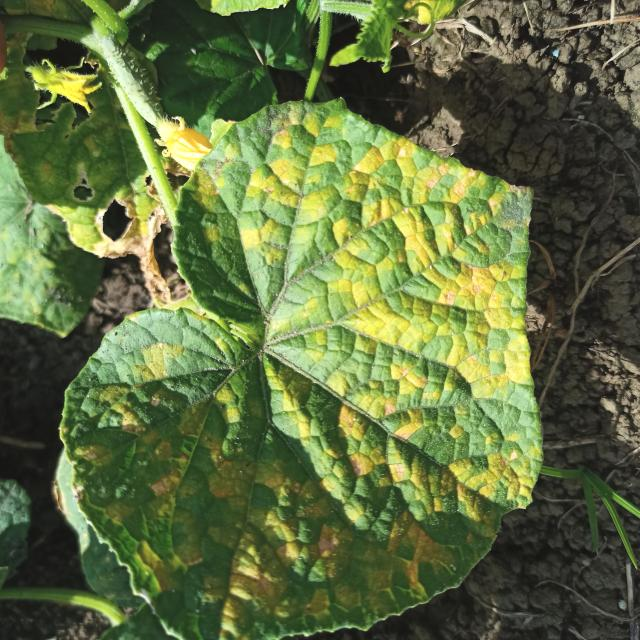disease_cucumber: (95, 115, 533, 628)
